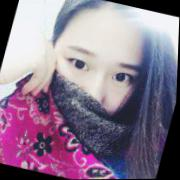WRONG: (39, 30, 152, 141)
